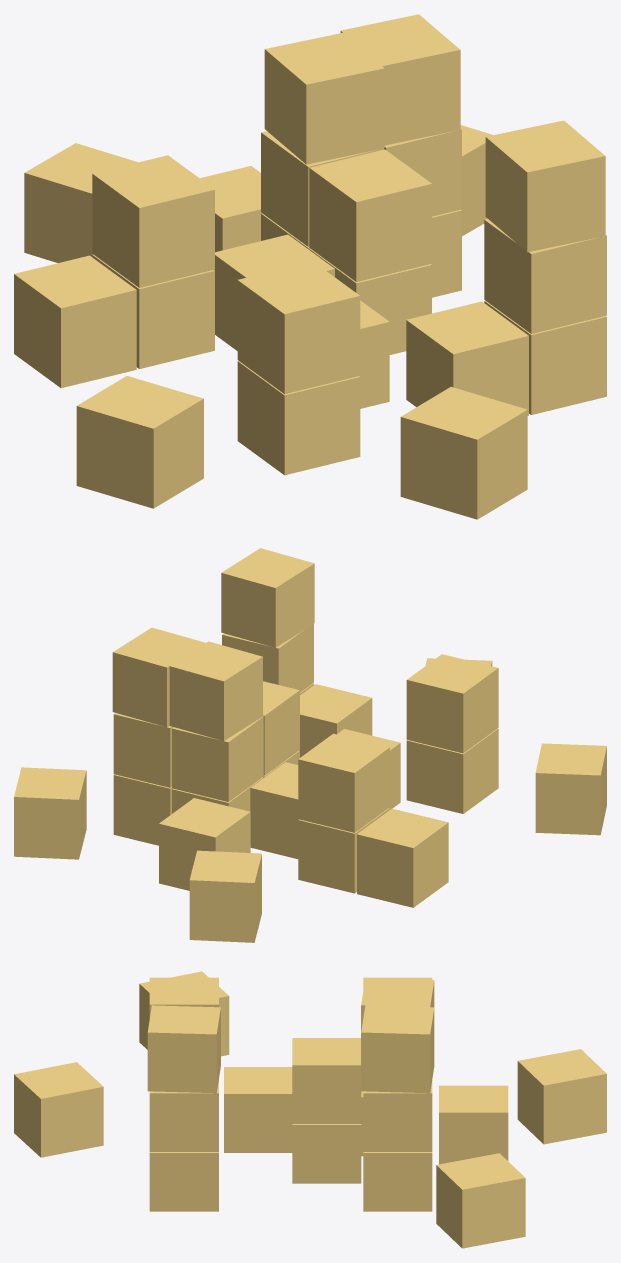
Rendered from Boxes.fbx.
The picture shows the model from 3 angles, top to bottom: view 1: azimuth 30°, elevation 25°; view 2: azimuth 150°, elevation 25°; view 3: azimuth 270°, elevation 25°; orthographic projection. The views are drawn at different scales.
Visible parts, largest first — view 1: Boxes; view 2: Boxes; view 3: Boxes.
Part boxes in pixels (left/top/right/bottom): Boxes: left=14, top=14, right=606, bottom=519; Boxes: left=14, top=548, right=606, bottom=942; Boxes: left=14, top=971, right=606, bottom=1248.
Size of the model in its own units: 173 by 67.31 by 202.
